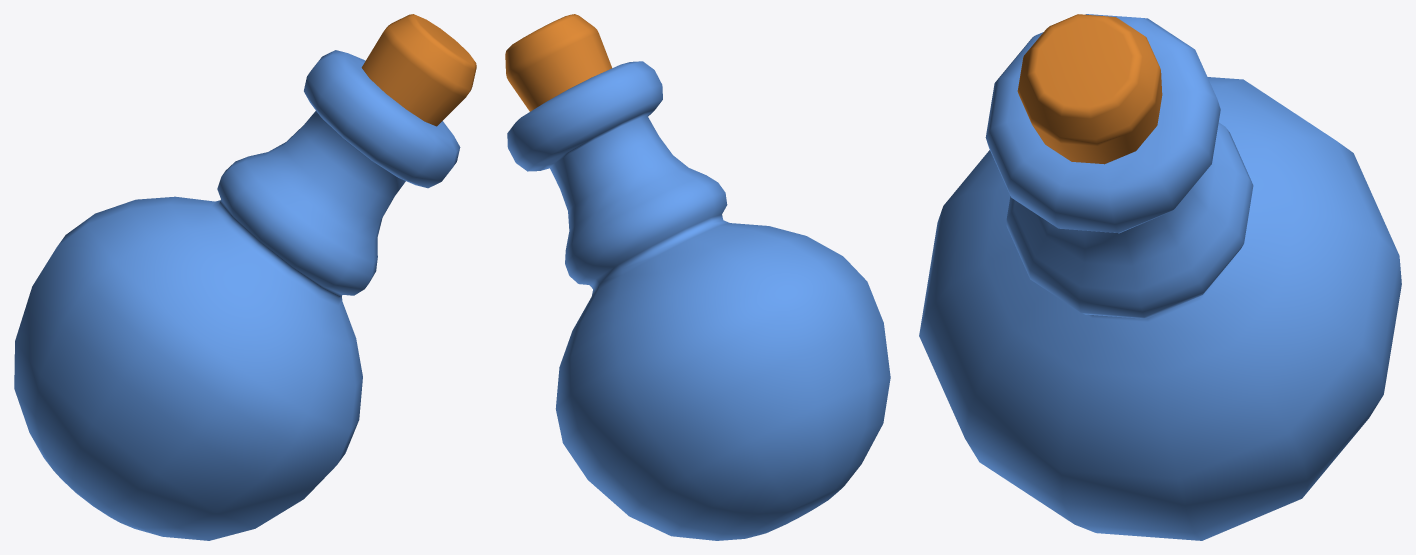
3 views of the same model, side by side, from view 1: azimuth 30°, elevation 25°; view 2: azimuth 150°, elevation 25°; view 3: azimuth 270°, elevation 25° (orthographic). The views are drawn at different scales.
Visible parts, largest first — view 1: model_1.125; view 2: model_1.125; view 3: model_1.125.
Part boxes in pixels (bbox=[...]): model_1.125: bbox=[14, 14, 476, 540]; model_1.125: bbox=[505, 14, 890, 540]; model_1.125: bbox=[919, 14, 1401, 540].
Size of the model in its own units: 3.88 by 4.32 by 3.01.
